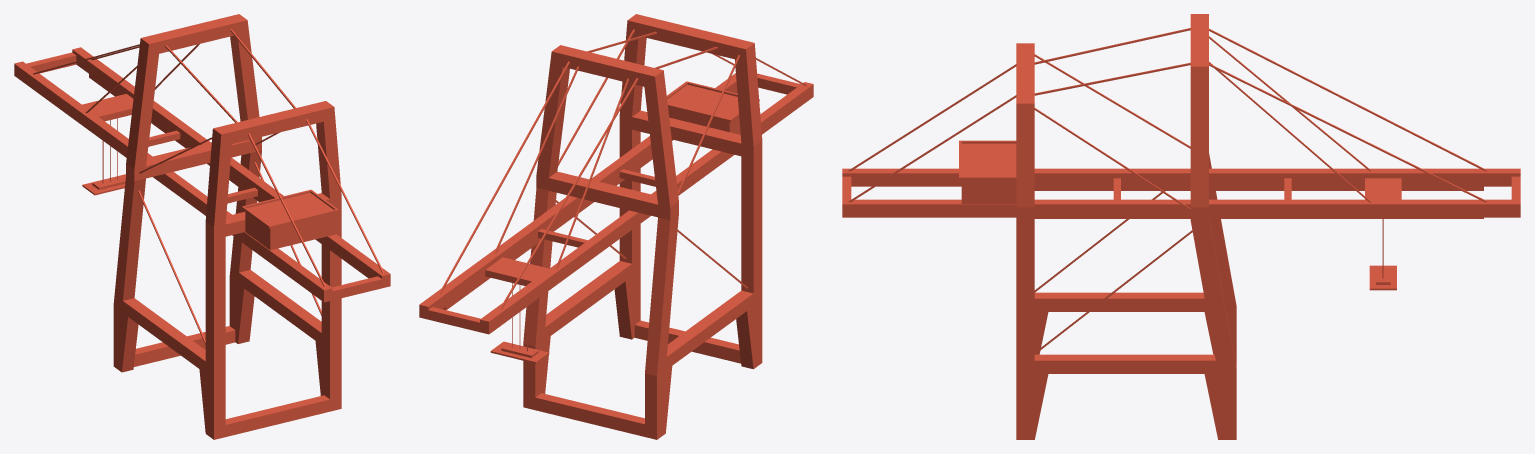
Rendered from Crane.fbx.
The picture shows the model from 3 angles, left to right: view 1: azimuth 30°, elevation 25°; view 2: azimuth 150°, elevation 25°; view 3: azimuth 270°, elevation 25°; orthographic projection. The views are drawn at different scales.
Visible parts, largest first — view 1: SPW_Urban_Props_Container Crane; view 2: SPW_Urban_Props_Container Crane; view 3: SPW_Urban_Props_Container Crane.
Part boxes in pixels (left/top/right/bottom): SPW_Urban_Props_Container Crane: left=14, top=14, right=390, bottom=439; SPW_Urban_Props_Container Crane: left=419, top=14, right=813, bottom=439; SPW_Urban_Props_Container Crane: left=842, top=14, right=1520, bottom=439.
Bounding box in the file's own units: 880 × 2200 × 3700.
